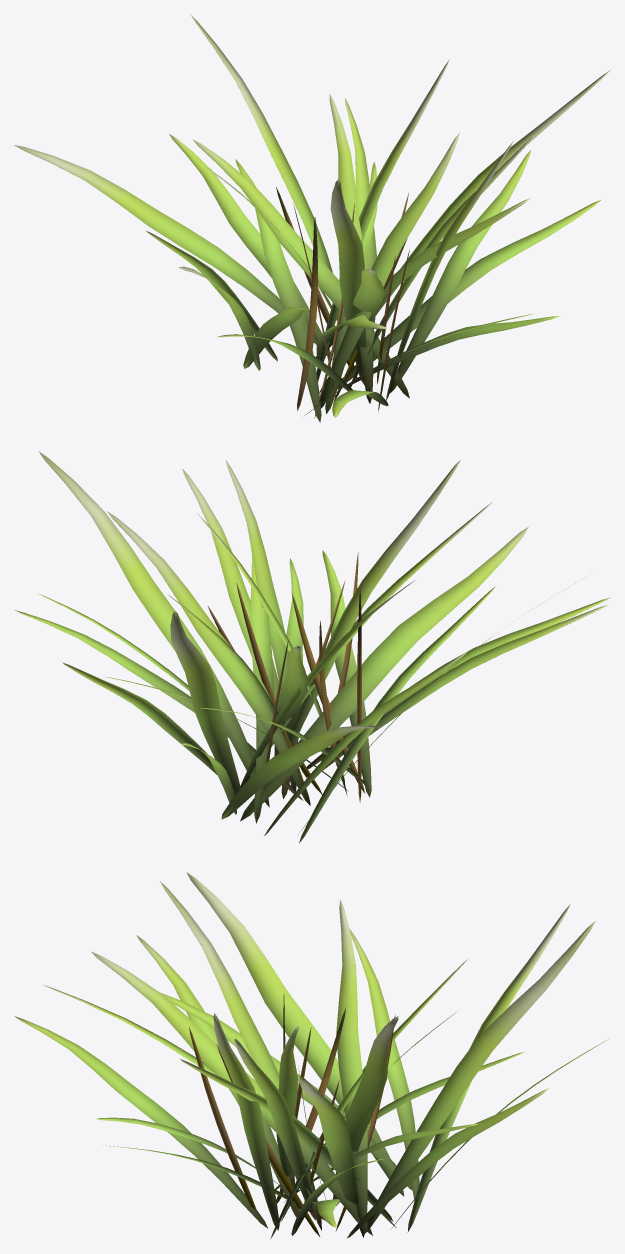
Rendered from osoka-aloesowata-11.obj.
3 views of the same model, one above another, from view 1: azimuth 30°, elevation 25°; view 2: azimuth 150°, elevation 25°; view 3: azimuth 270°, elevation 25° (orthographic). The views are drawn at different scales.
Parts seen in each view (by area): view 1: Stratiotes-aloides1.005; view 2: Stratiotes-aloides1.005; view 3: Stratiotes-aloides1.005.
Boxes of the visible parts, left/top/right/bottom form: Stratiotes-aloides1.005: left=14, top=14, right=610, bottom=422; Stratiotes-aloides1.005: left=15, top=451, right=610, bottom=843; Stratiotes-aloides1.005: left=14, top=872, right=609, bottom=1238.
Size of the model in its own units: 0.3067 by 0.173 by 0.3131.
1 material, 1 textured.
